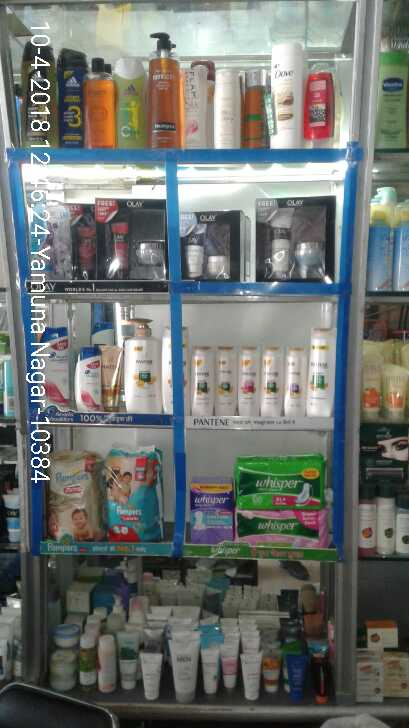venus: (29, 200, 70, 282)
